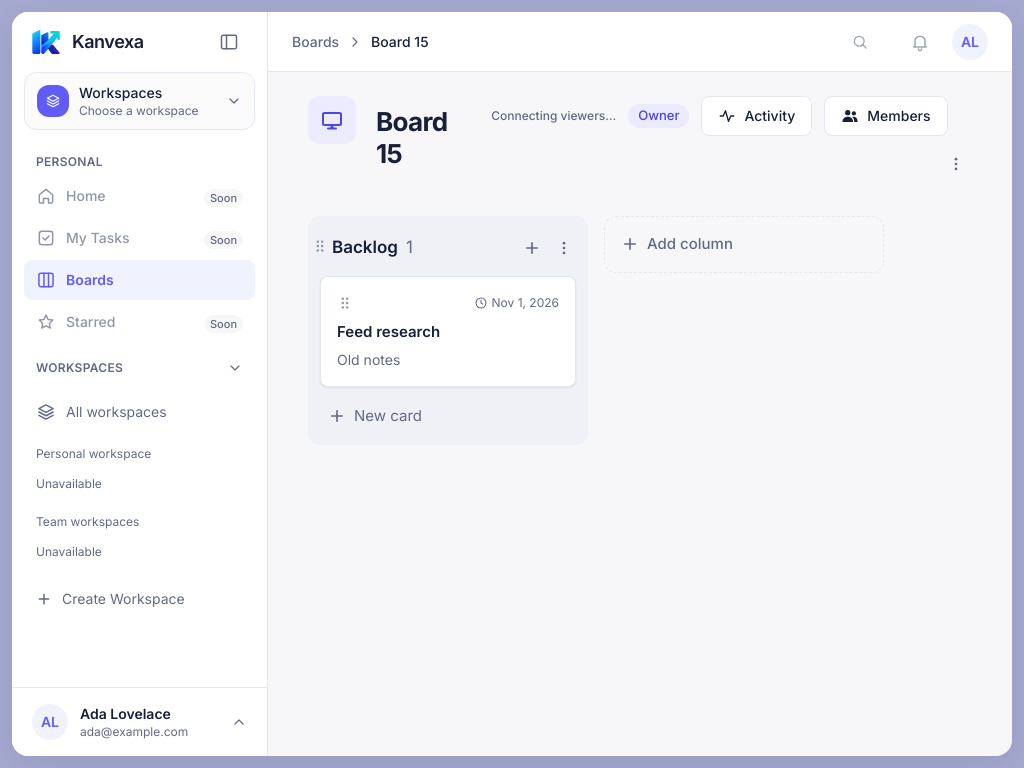
it: card detail › clears the due date with null and leaves other fields out
This screenshot has width=1024, height=768.
Click the button "Feed research": (389,332) top-left (337, 321), bottom-right (440, 344)
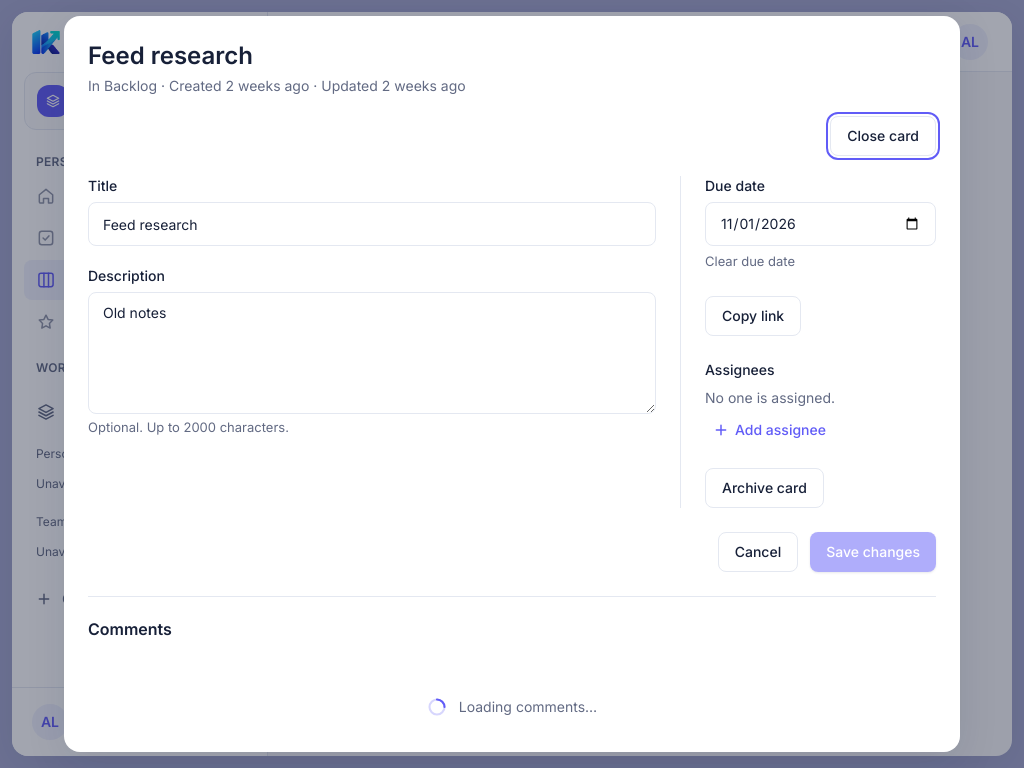
Check: the date field labelled "Due date" holds "2026-11-01", box top-left (705, 202), bottom-right (936, 246)
Click the button "Clear due date": (750,262) top-left (705, 252), bottom-right (795, 272)
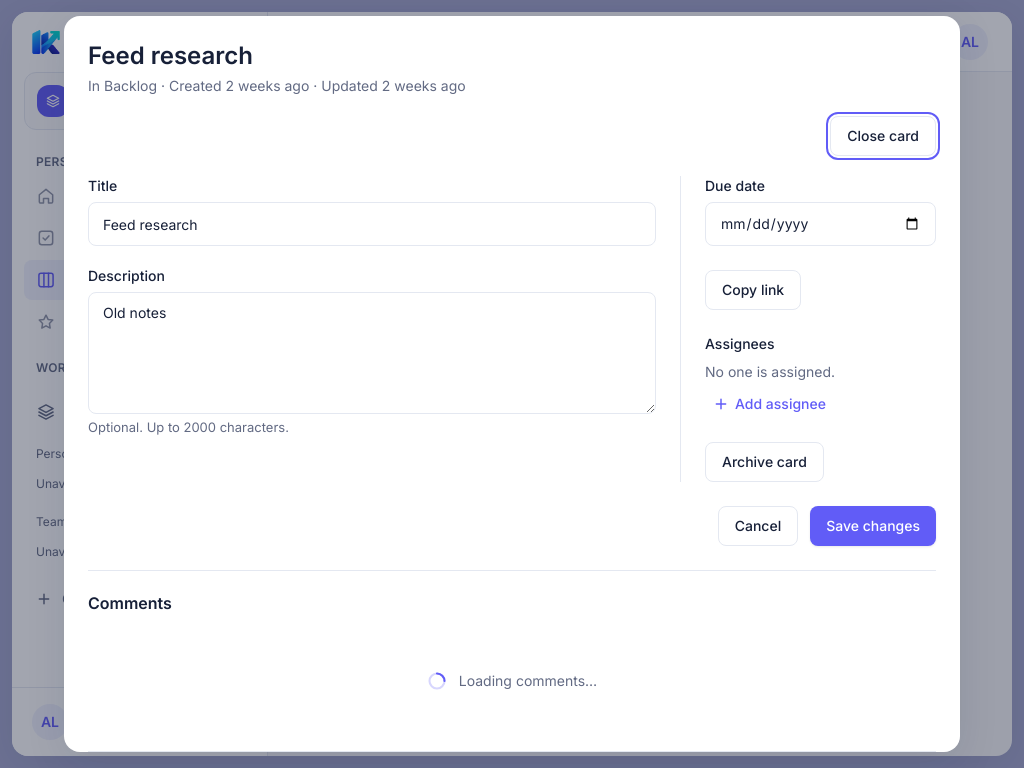
Click the button "Save changes": (873,526) top-left (810, 506), bottom-right (936, 546)
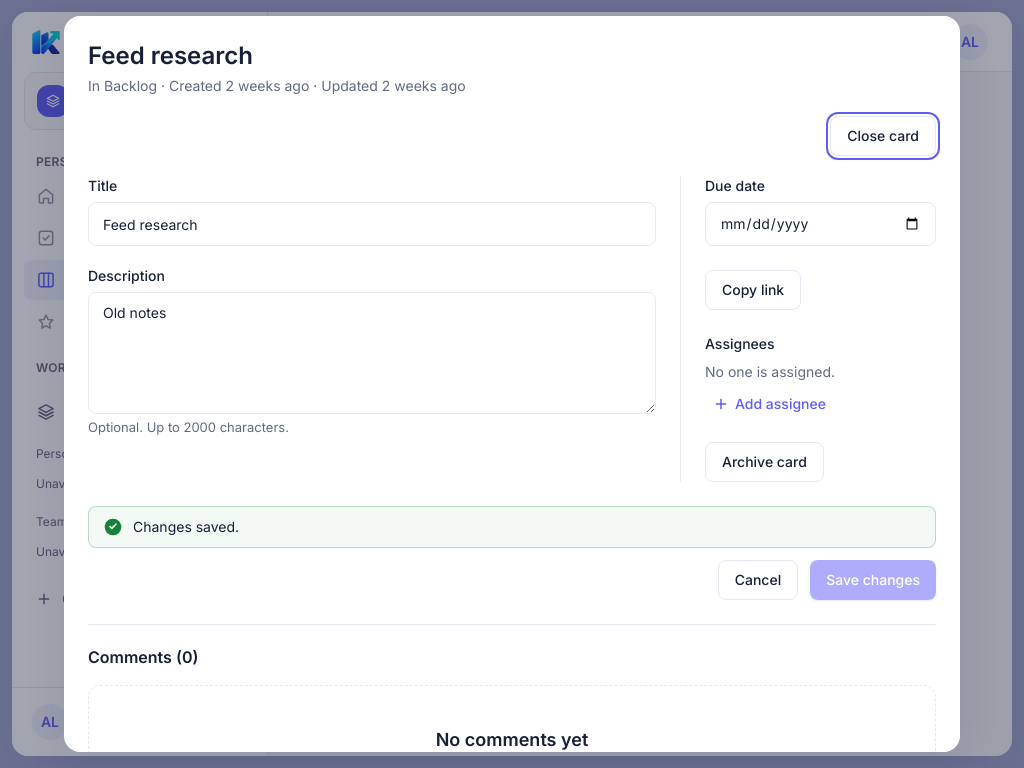
Check: the text "Changes saved." is shown, box top-left (133, 517), bottom-right (239, 537)
